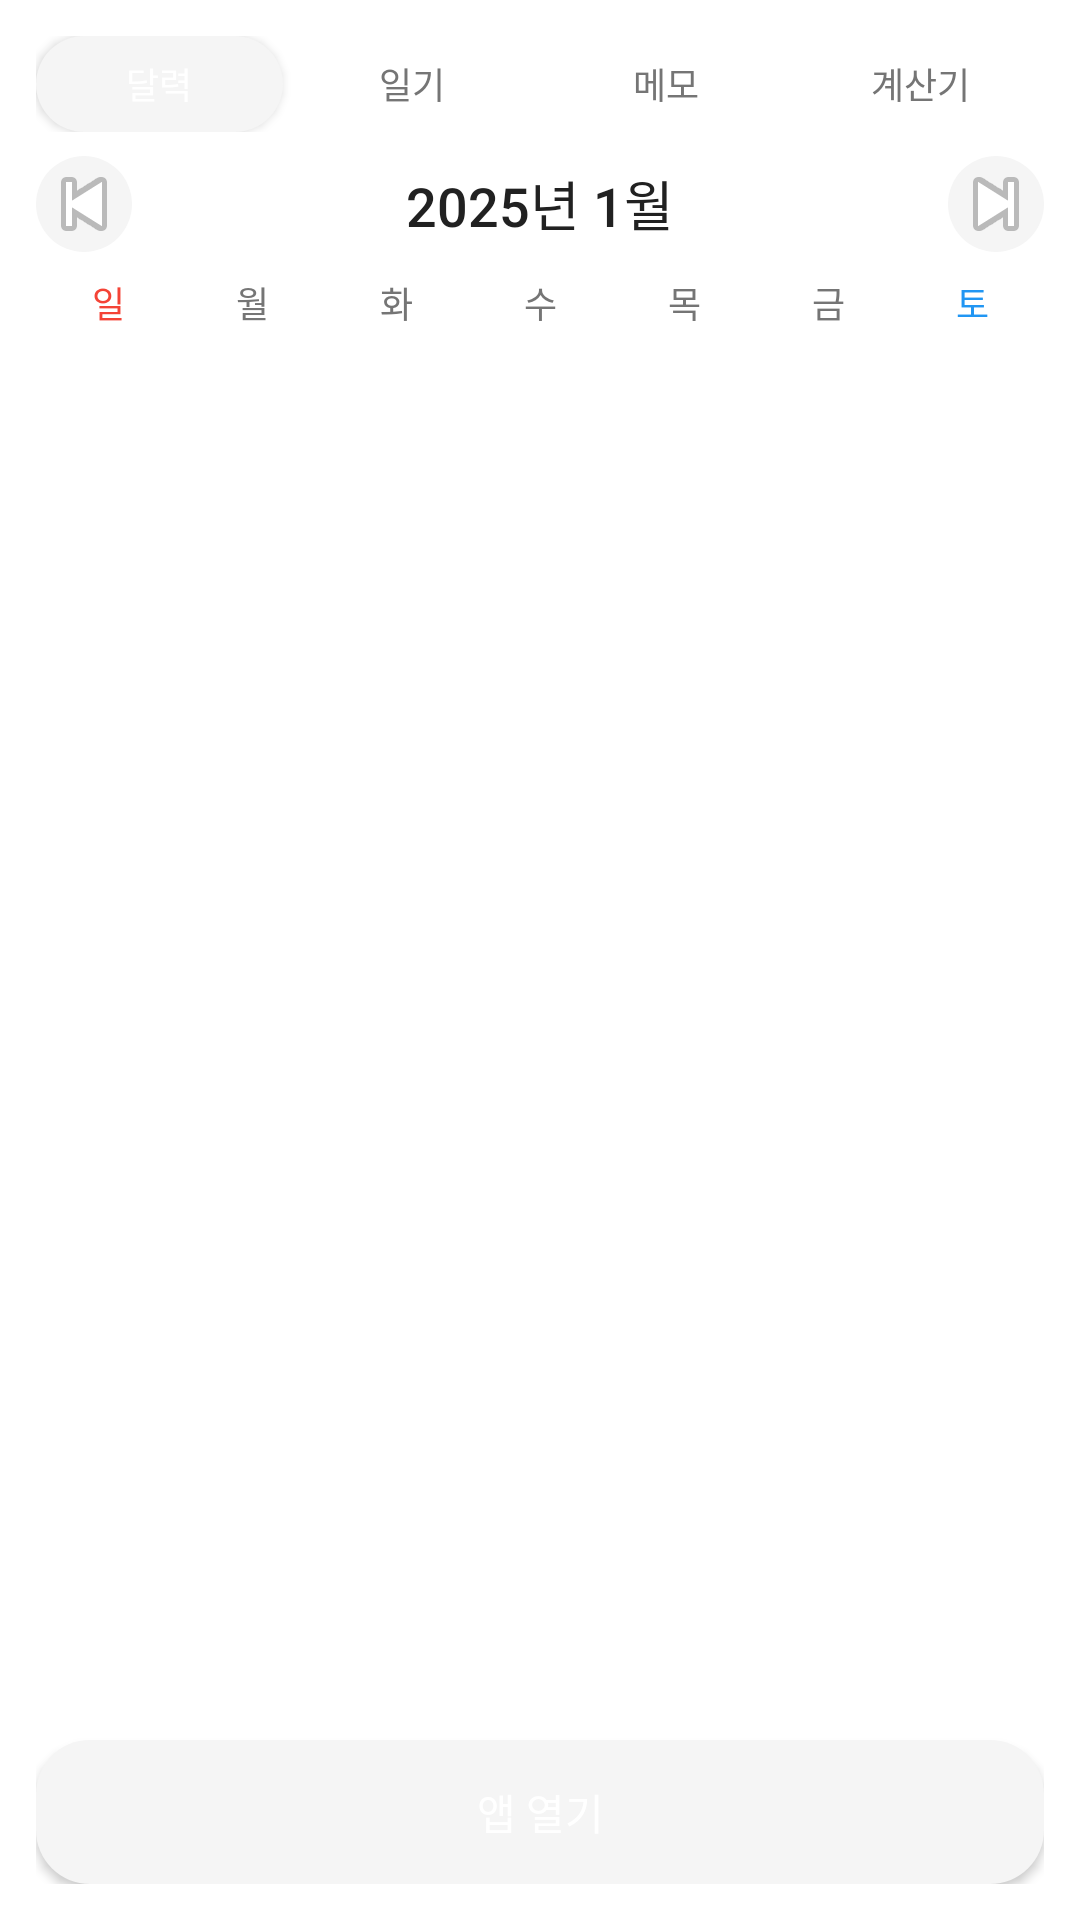

Named icons in this screenshot (1080 × 1920) and their bounding boxes, bbox=(x1, y1, x2, y2):
다음 달: bbox=(973, 177, 1019, 231)
이전 달: bbox=(61, 177, 107, 231)
